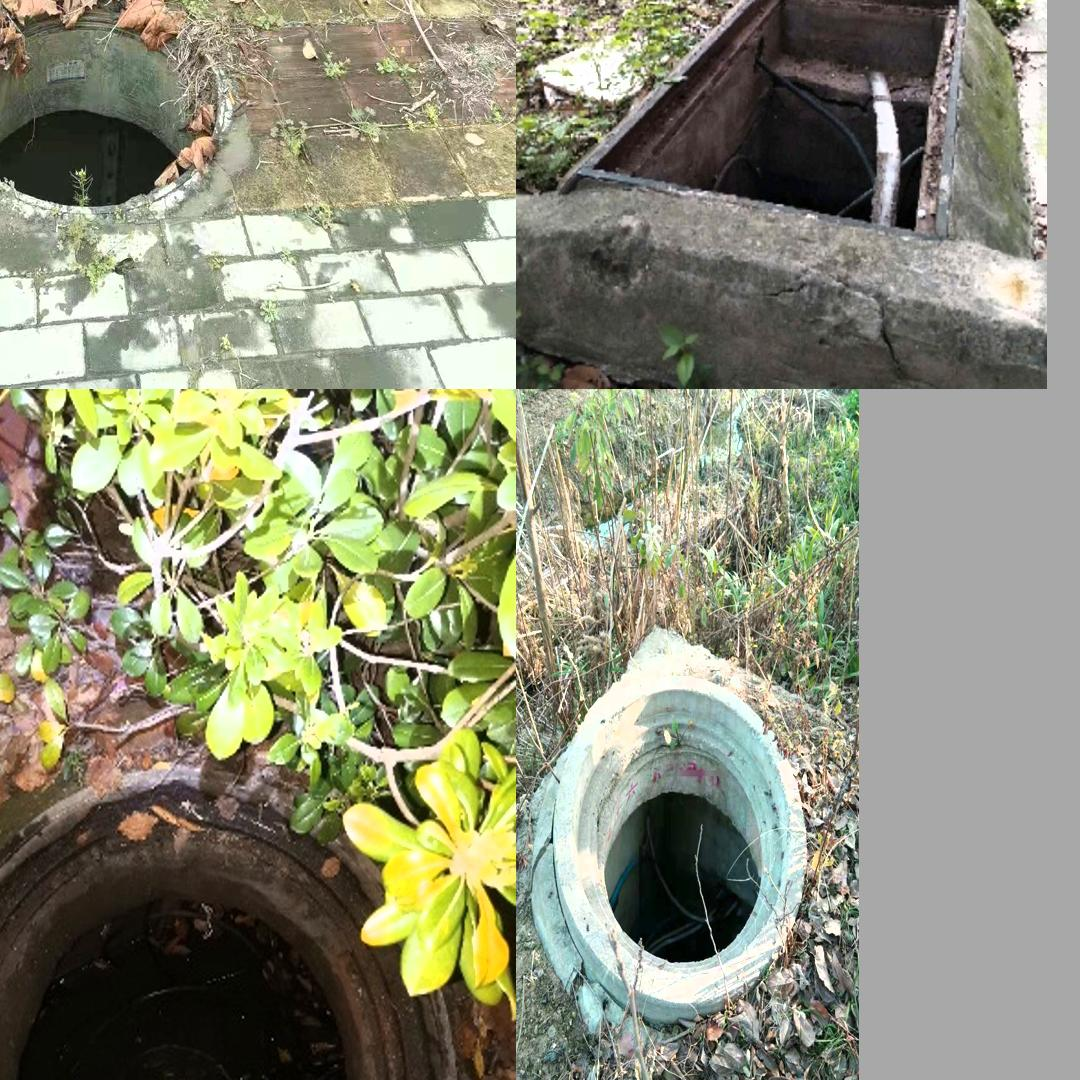lose: (0, 759, 459, 1080), (558, 0, 969, 240), (552, 673, 806, 1027), (0, 0, 228, 205)
